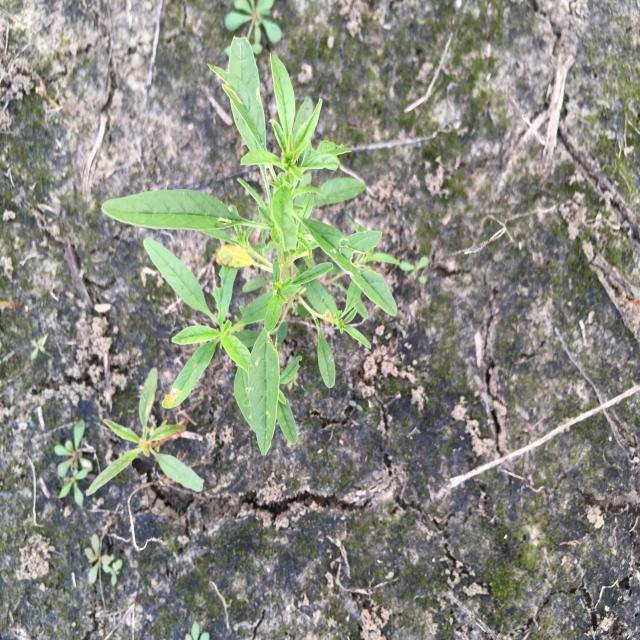Carpetweed: (51, 423, 93, 511)
Waterhemp: (99, 33, 405, 460), (83, 364, 206, 498)
